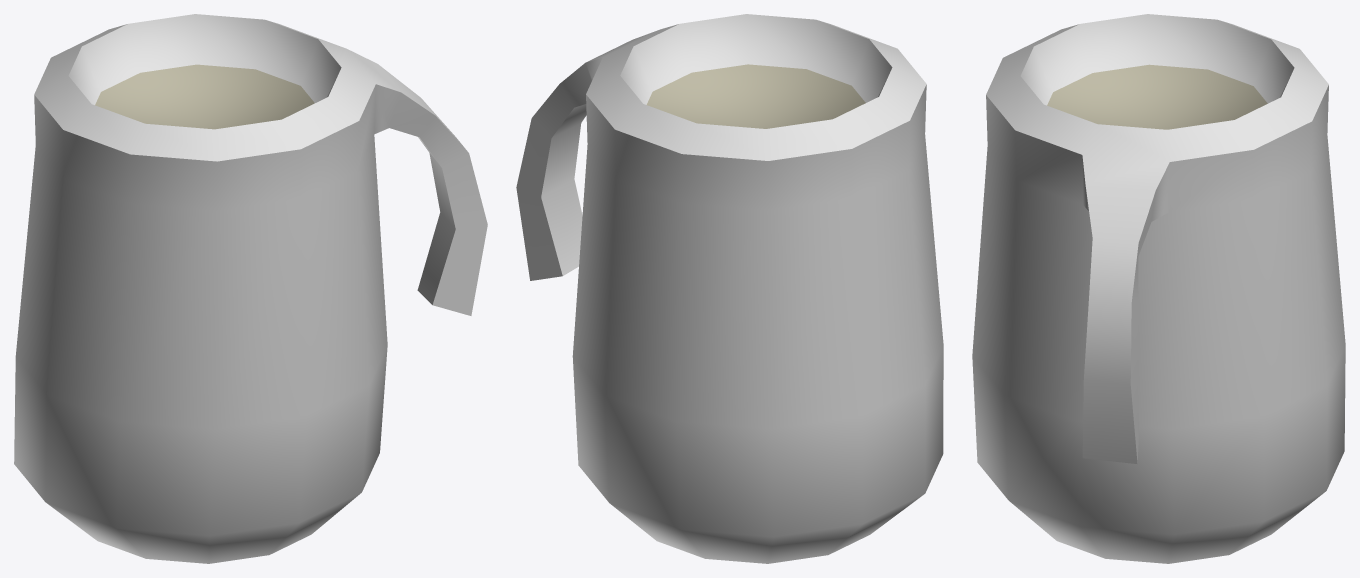
The model's file is PT_Pot_19.fbx.
3 renders of one model, left to right at view 1: azimuth 30°, elevation 25°; view 2: azimuth 150°, elevation 25°; view 3: azimuth 270°, elevation 25°, orthographic.
Visible parts, largest first — view 1: PT_Pot_19; view 2: PT_Pot_19; view 3: PT_Pot_19.
Boxes of the visible parts, left/top/right/bottom form: PT_Pot_19: left=14, top=14, right=487, bottom=563; PT_Pot_19: left=516, top=14, right=943, bottom=563; PT_Pot_19: left=972, top=14, right=1345, bottom=563.
Size of the model in its own units: 14.06 by 14.34 by 10.82.
Materials: 1 (1 with a texture image).
